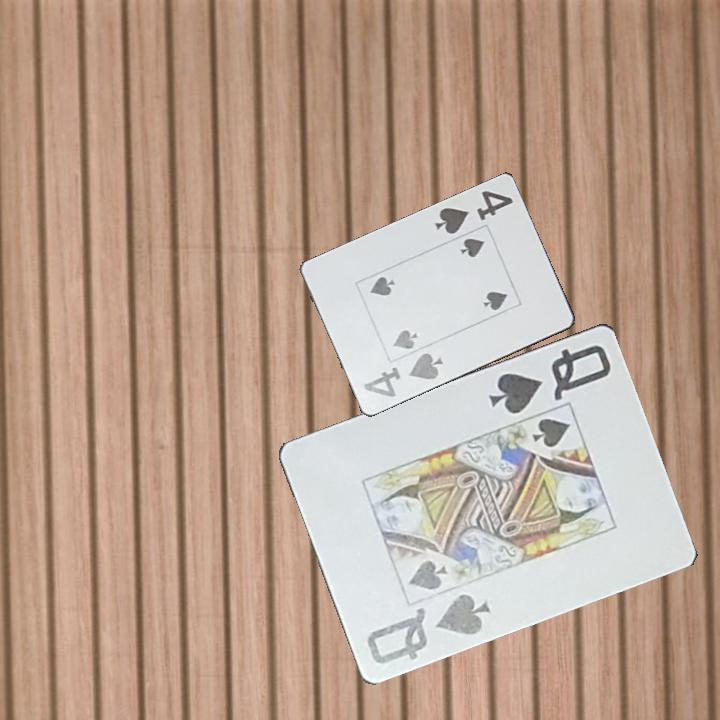4s: (429, 186, 516, 237), (360, 349, 445, 400)
Qs: (363, 587, 493, 667), (485, 340, 615, 417)
